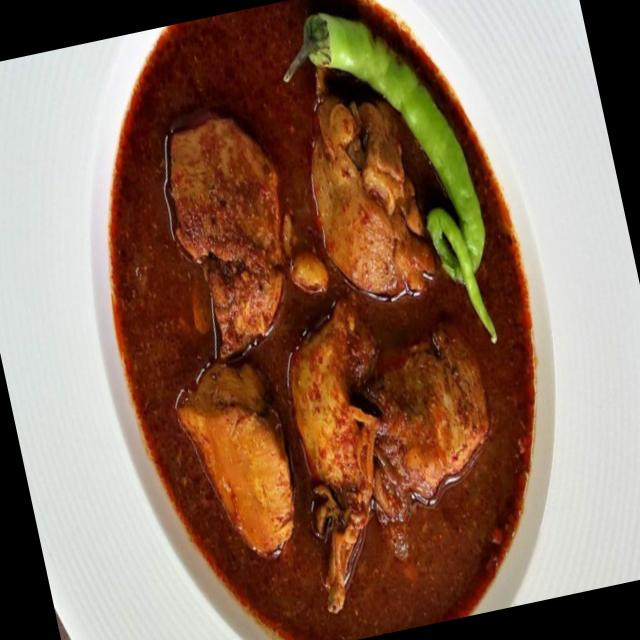chicken: (89, 0, 563, 640)
